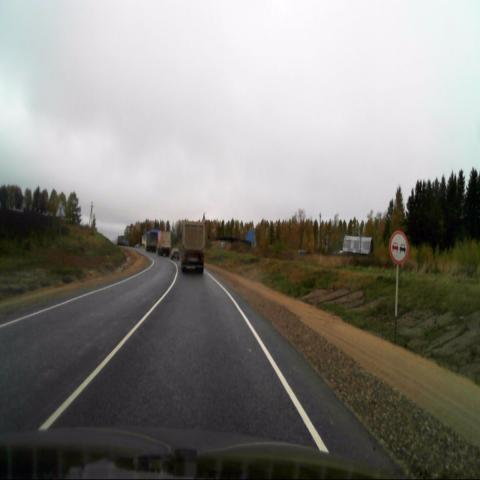3_20: (389, 232, 408, 263)
